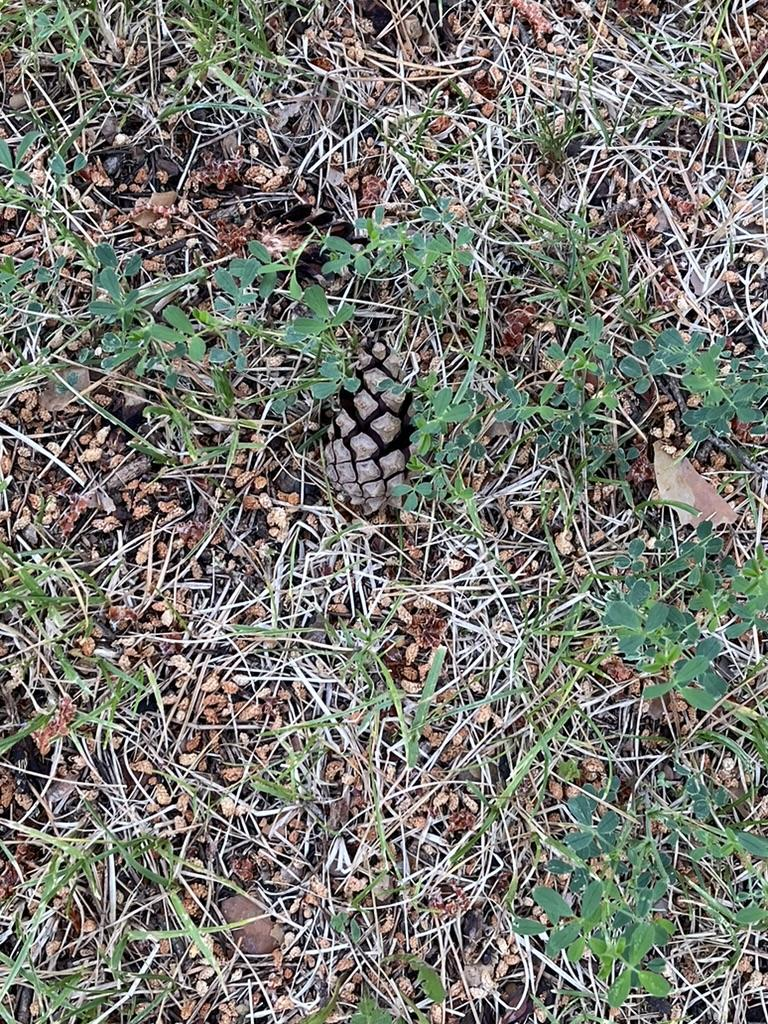pine: (314, 326, 438, 530)
